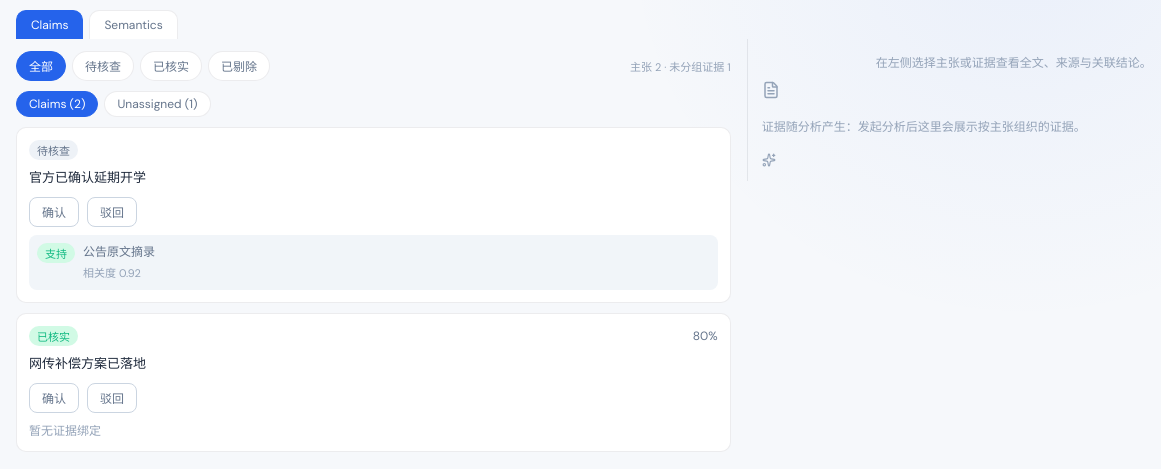
Test: InvestigationEvidenceView › switches to unassigned scope and shows unassigned excerpts (FC3)
Click the button "Unassigned (1)" at (158,104), box [104,91,210,117]
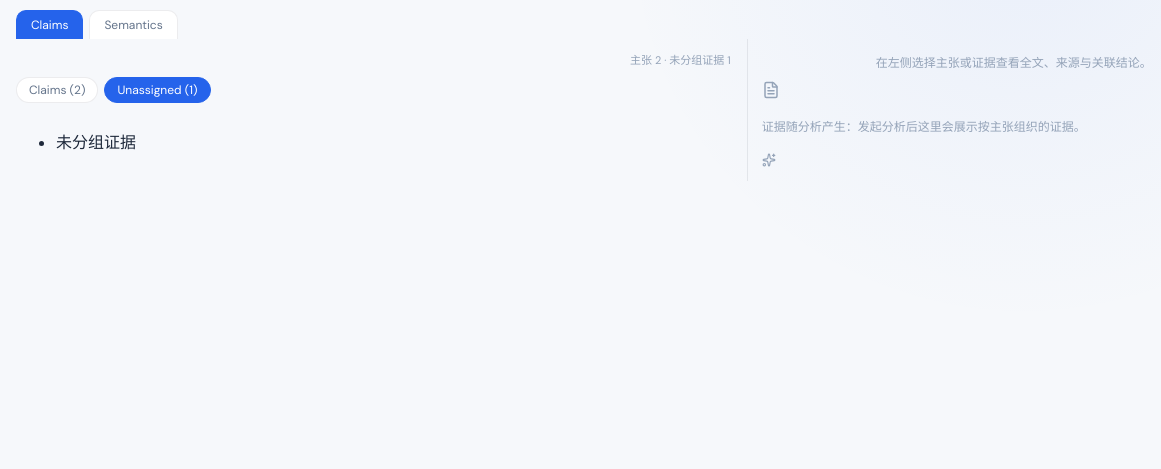
Now the list reads "未分组证据", box [56,132,136,153]
